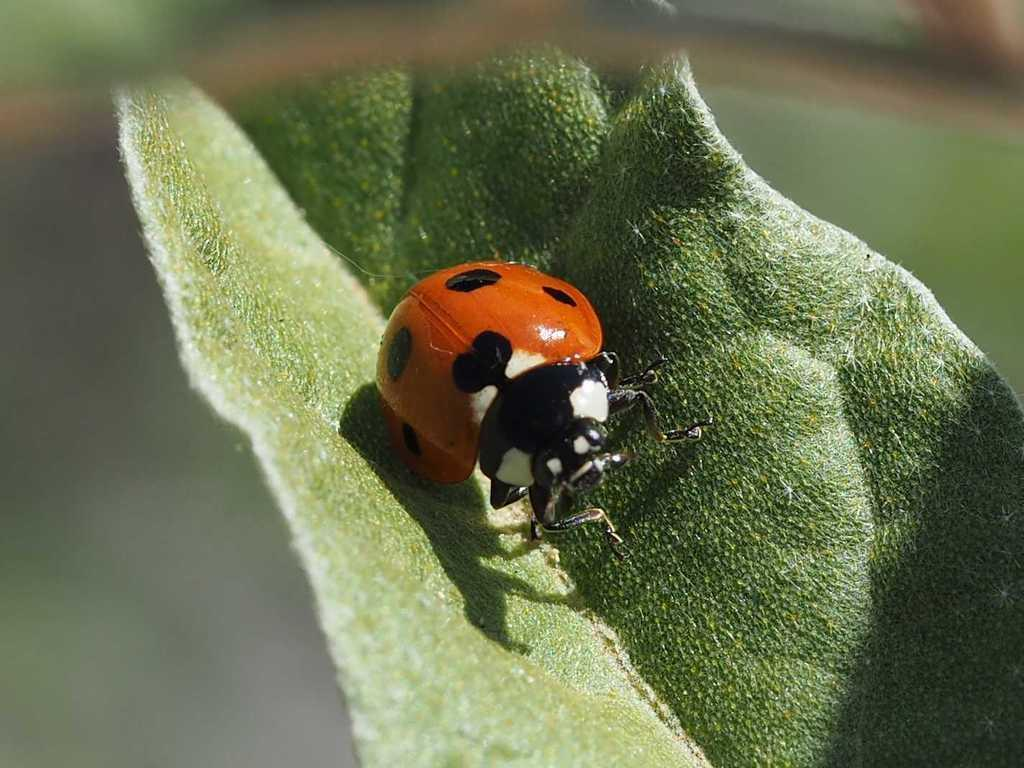ladybug: (373, 253, 719, 567)
